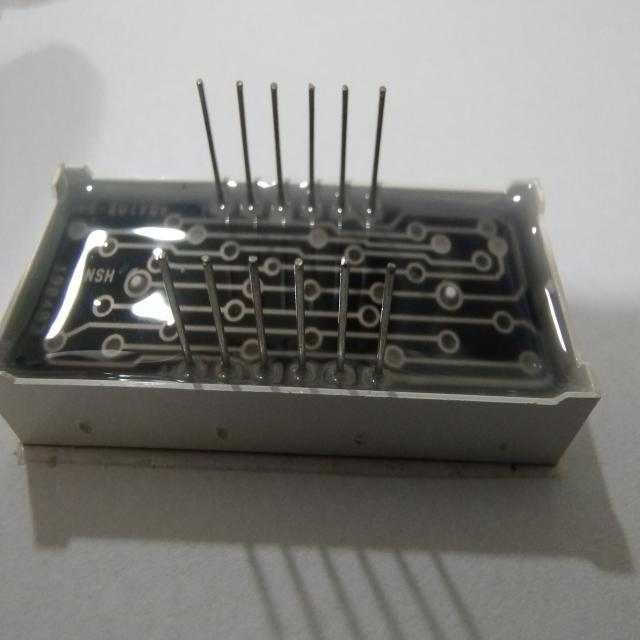7_segments_4_digits: (0, 68, 602, 494)
